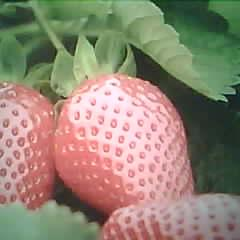straw-ripe: (55, 75, 195, 210)
